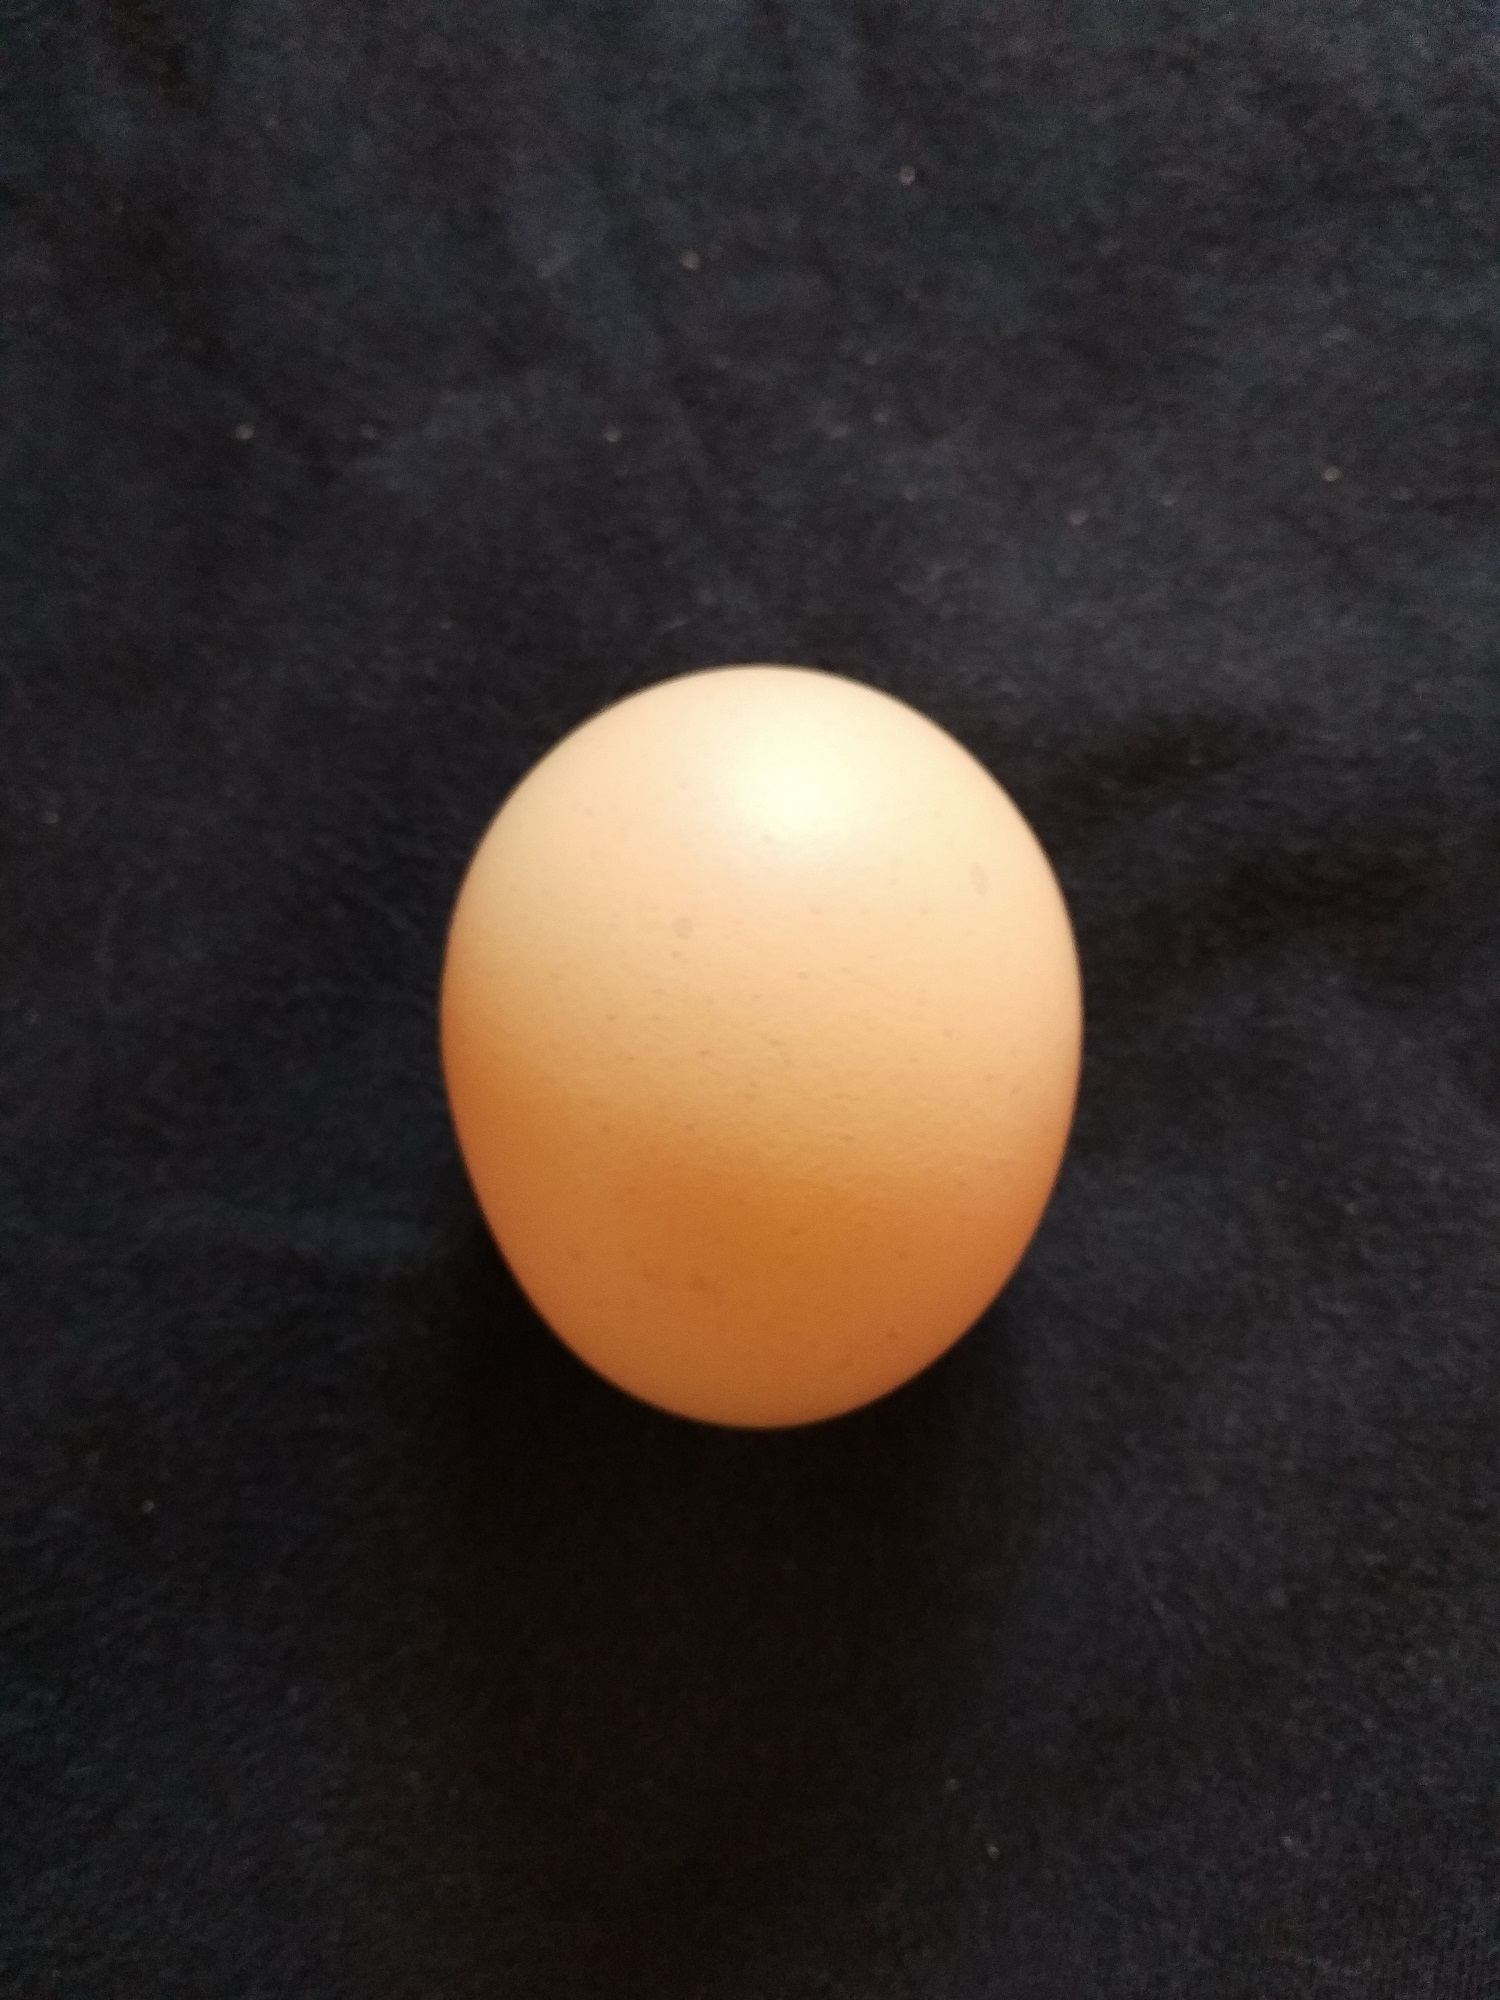Female: (429, 658, 1089, 1443)
